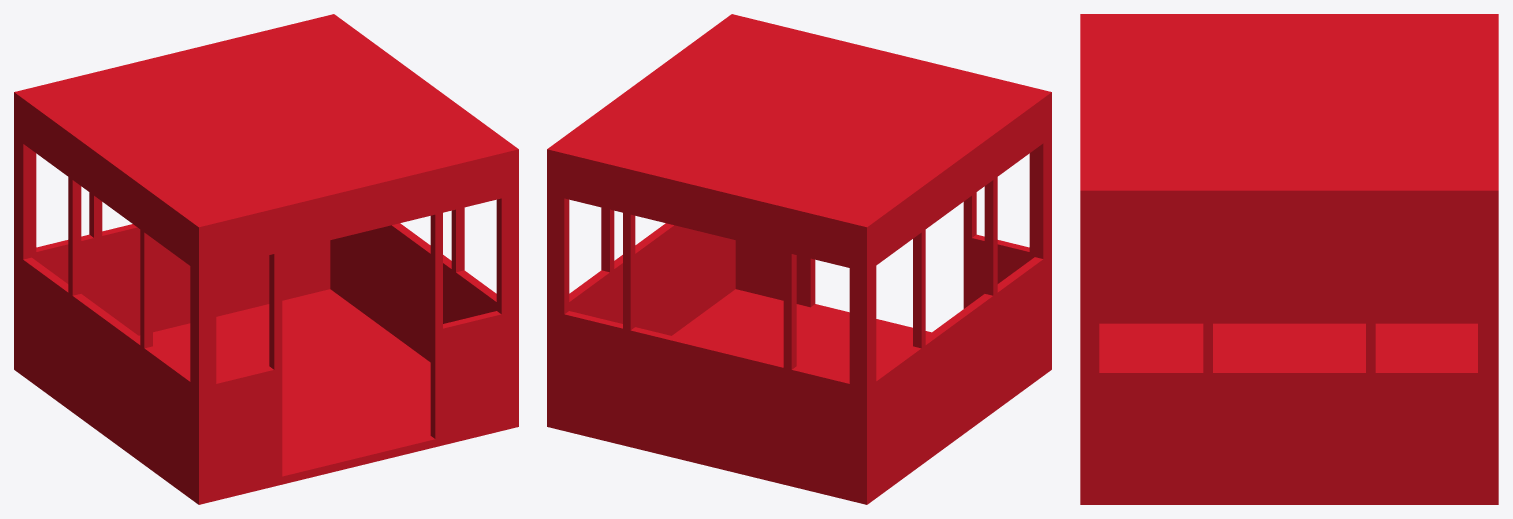
File: Base_Elevator.glb
3 views of the same model, side by side, from view 1: azimuth 30°, elevation 25°; view 2: azimuth 150°, elevation 25°; view 3: azimuth 270°, elevation 25° (orthographic). The views are drawn at different scales.
Parts seen in each view (by area): view 1: Cube; view 2: Cube; view 3: Cube.
Part boxes in pixels (box(x1,y1,x2,y2)): Cube: box(14, 14, 518, 504); Cube: box(547, 14, 1051, 504); Cube: box(1080, 14, 1498, 504).
Bounding box in the file's own units: 5.88 × 4.87 × 5.88.
